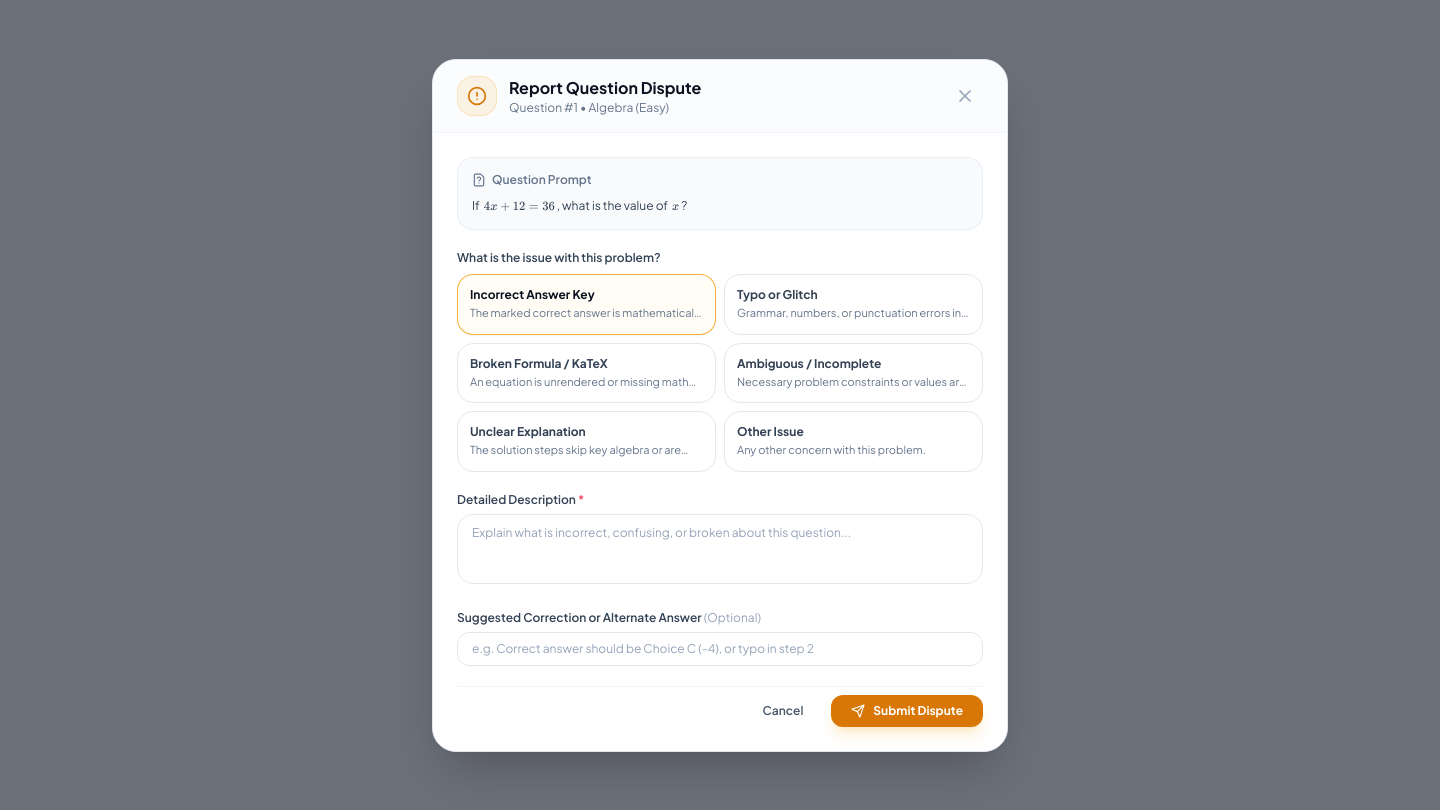
it: QuestionDisputeModal › validates description and submits dispute report
This screenshot has width=1440, height=810.
Click the button "Submit Dispute": (907, 710) [831, 694, 983, 726]
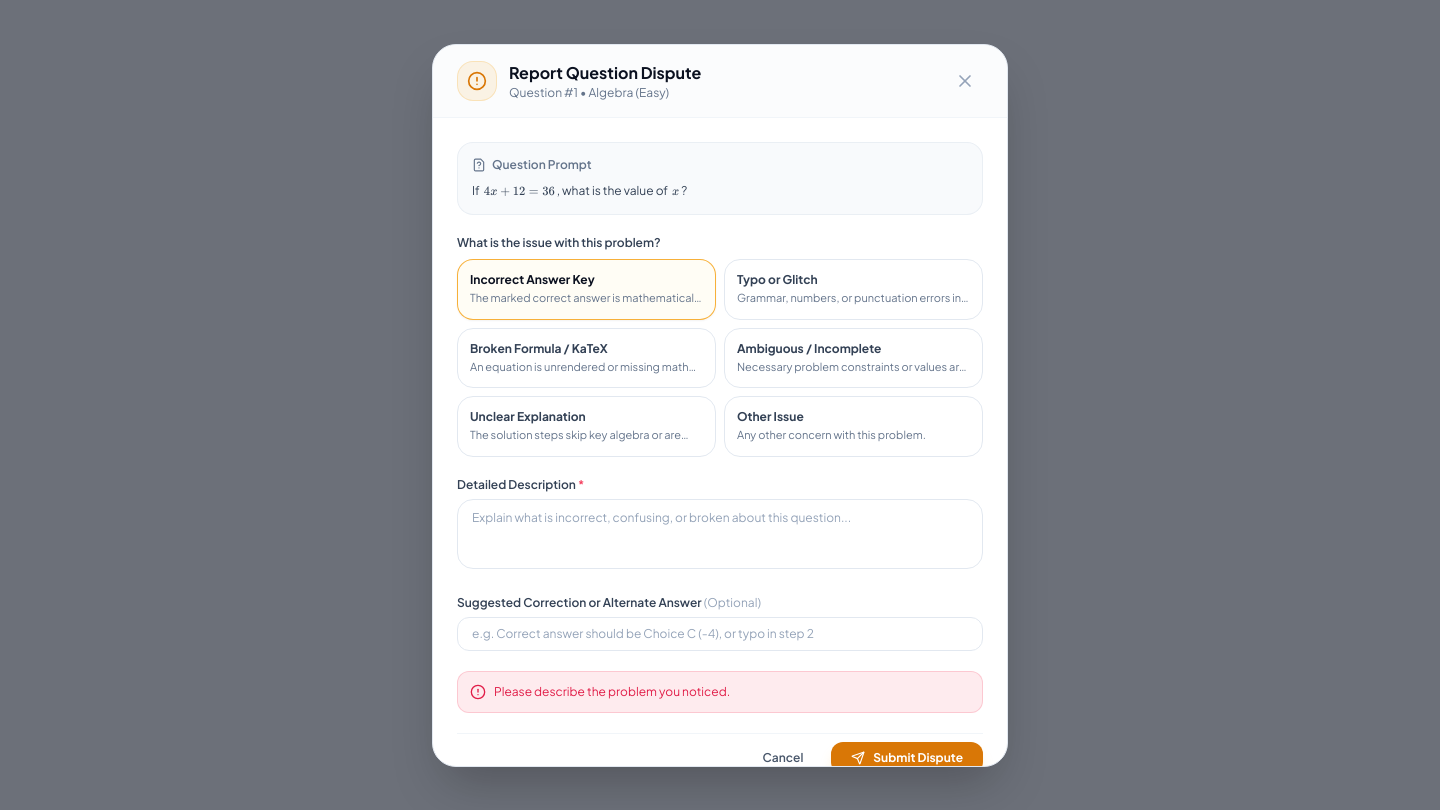
Check: the text "Please describe the problem you noticed." is shown, box [494, 684, 730, 700]
Note: Fill in description
Replace the text in the text box with placeholder "Explain what is incorrect" with "Formula has typo in choice B": (720, 534) [457, 498, 983, 568]
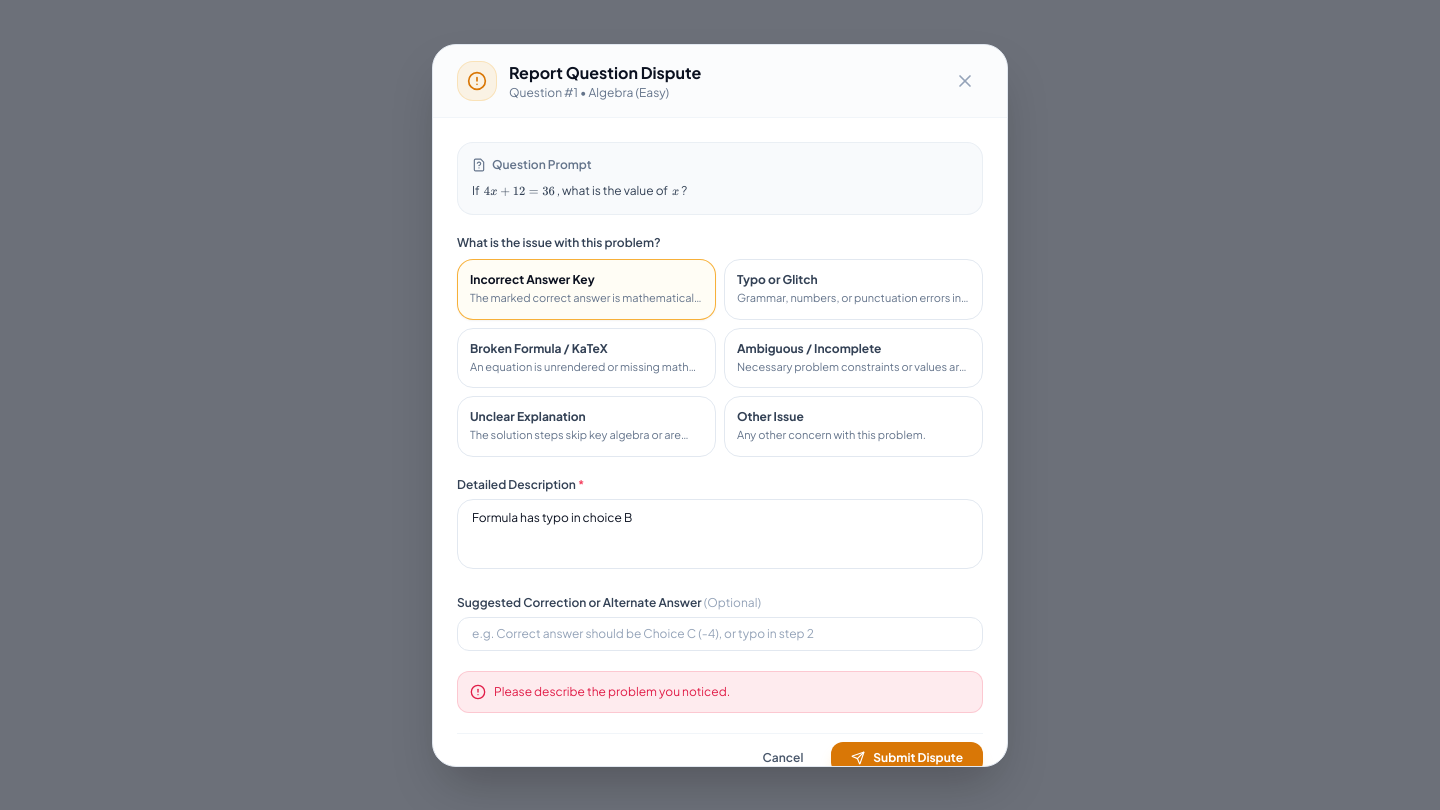
Click the button "Submit Dispute": (907, 758) [831, 742, 983, 774]
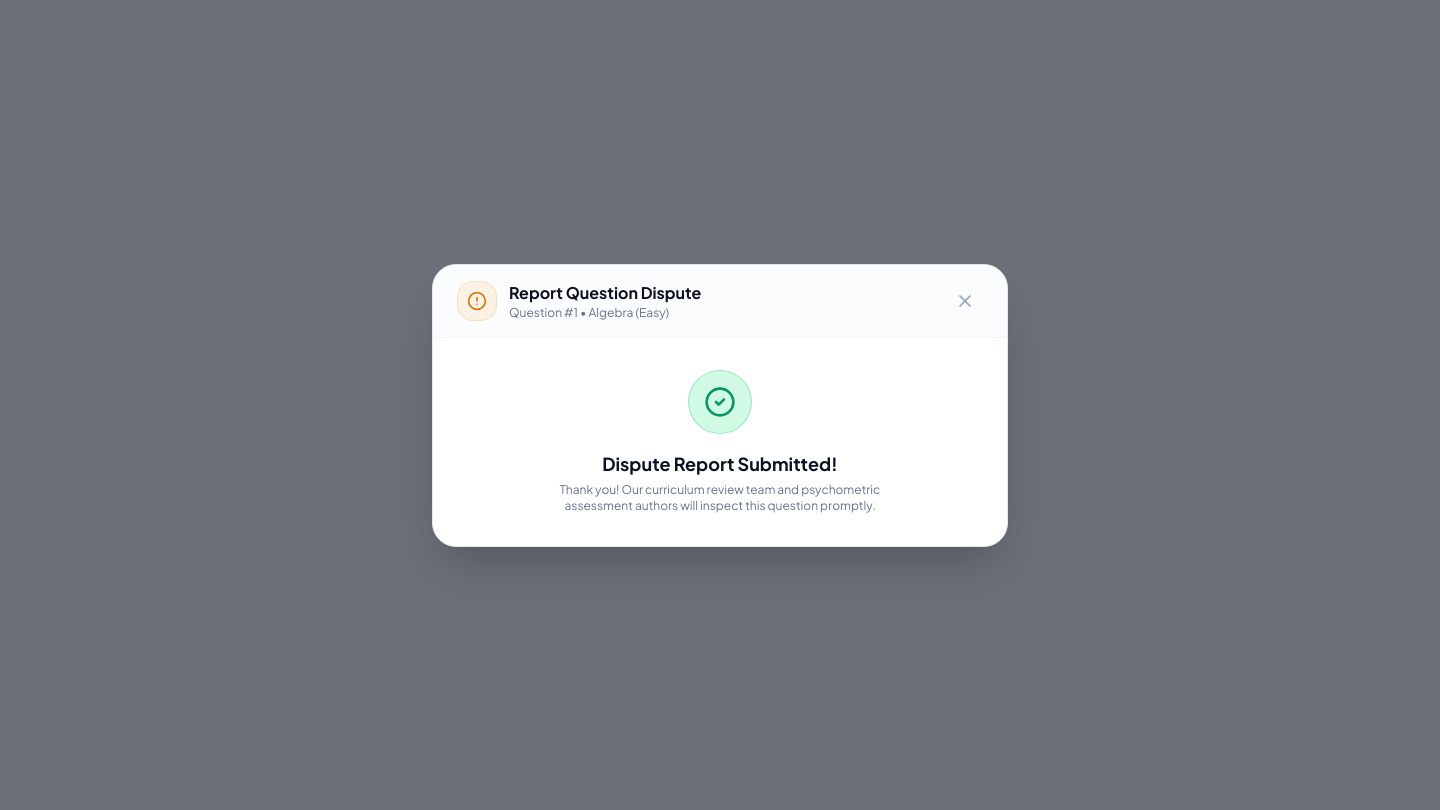
Check: the heading "Dispute Report Submitted!" is shown, box [602, 452, 838, 474]
